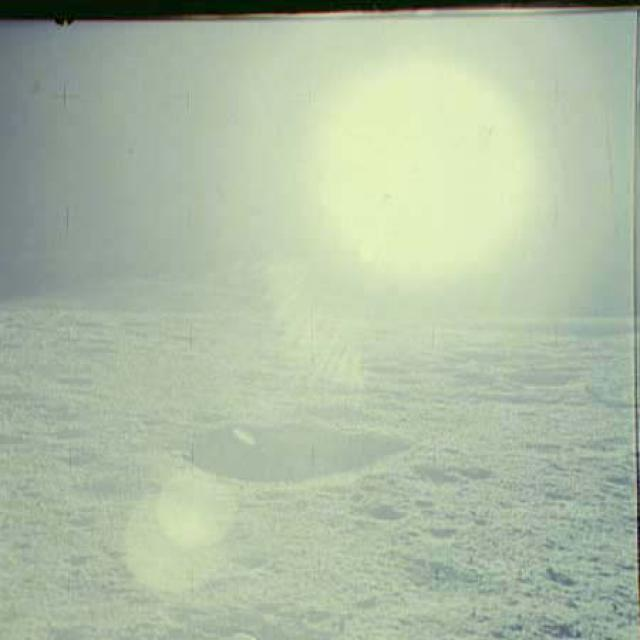crater: (168, 403, 426, 489), (40, 464, 150, 516), (404, 456, 498, 493), (498, 358, 580, 392), (345, 499, 426, 530)
